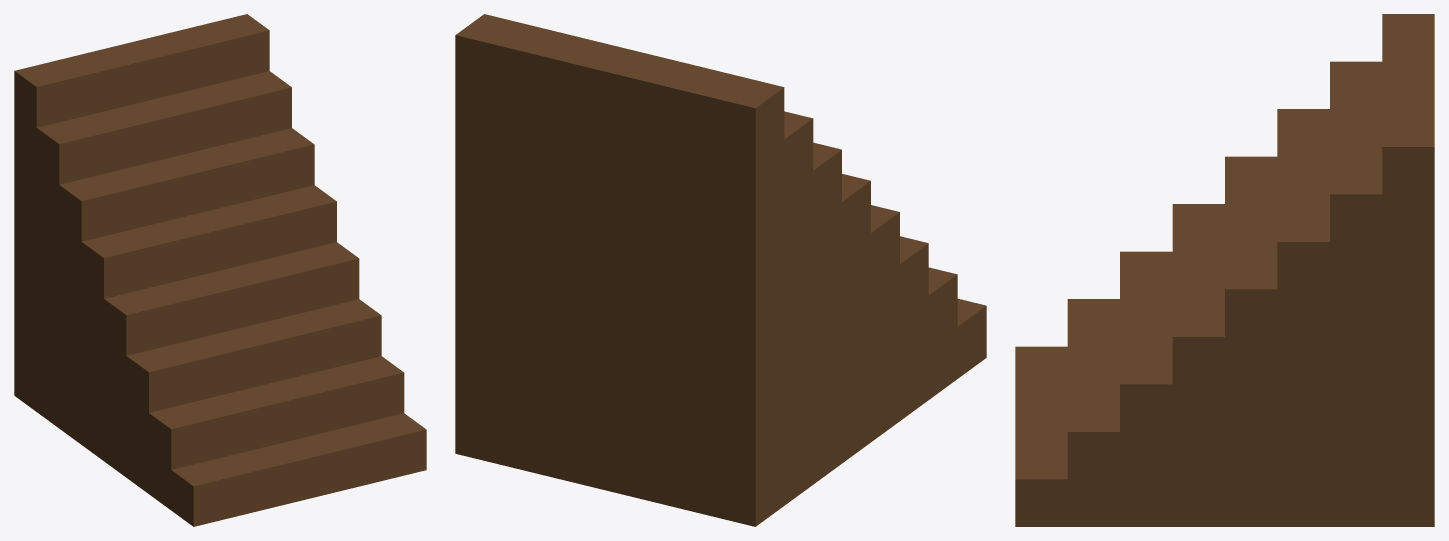
File: wheel-0.obj
The picture shows the model from 3 angles, left to right: view 1: azimuth 30°, elevation 25°; view 2: azimuth 150°, elevation 25°; view 3: azimuth 270°, elevation 25°; orthographic projection. The views are drawn at different scales.
Size of the model in its own units: 1.8 by 2.4 by 2.4.
Materials: 1 (1 with a texture image).
